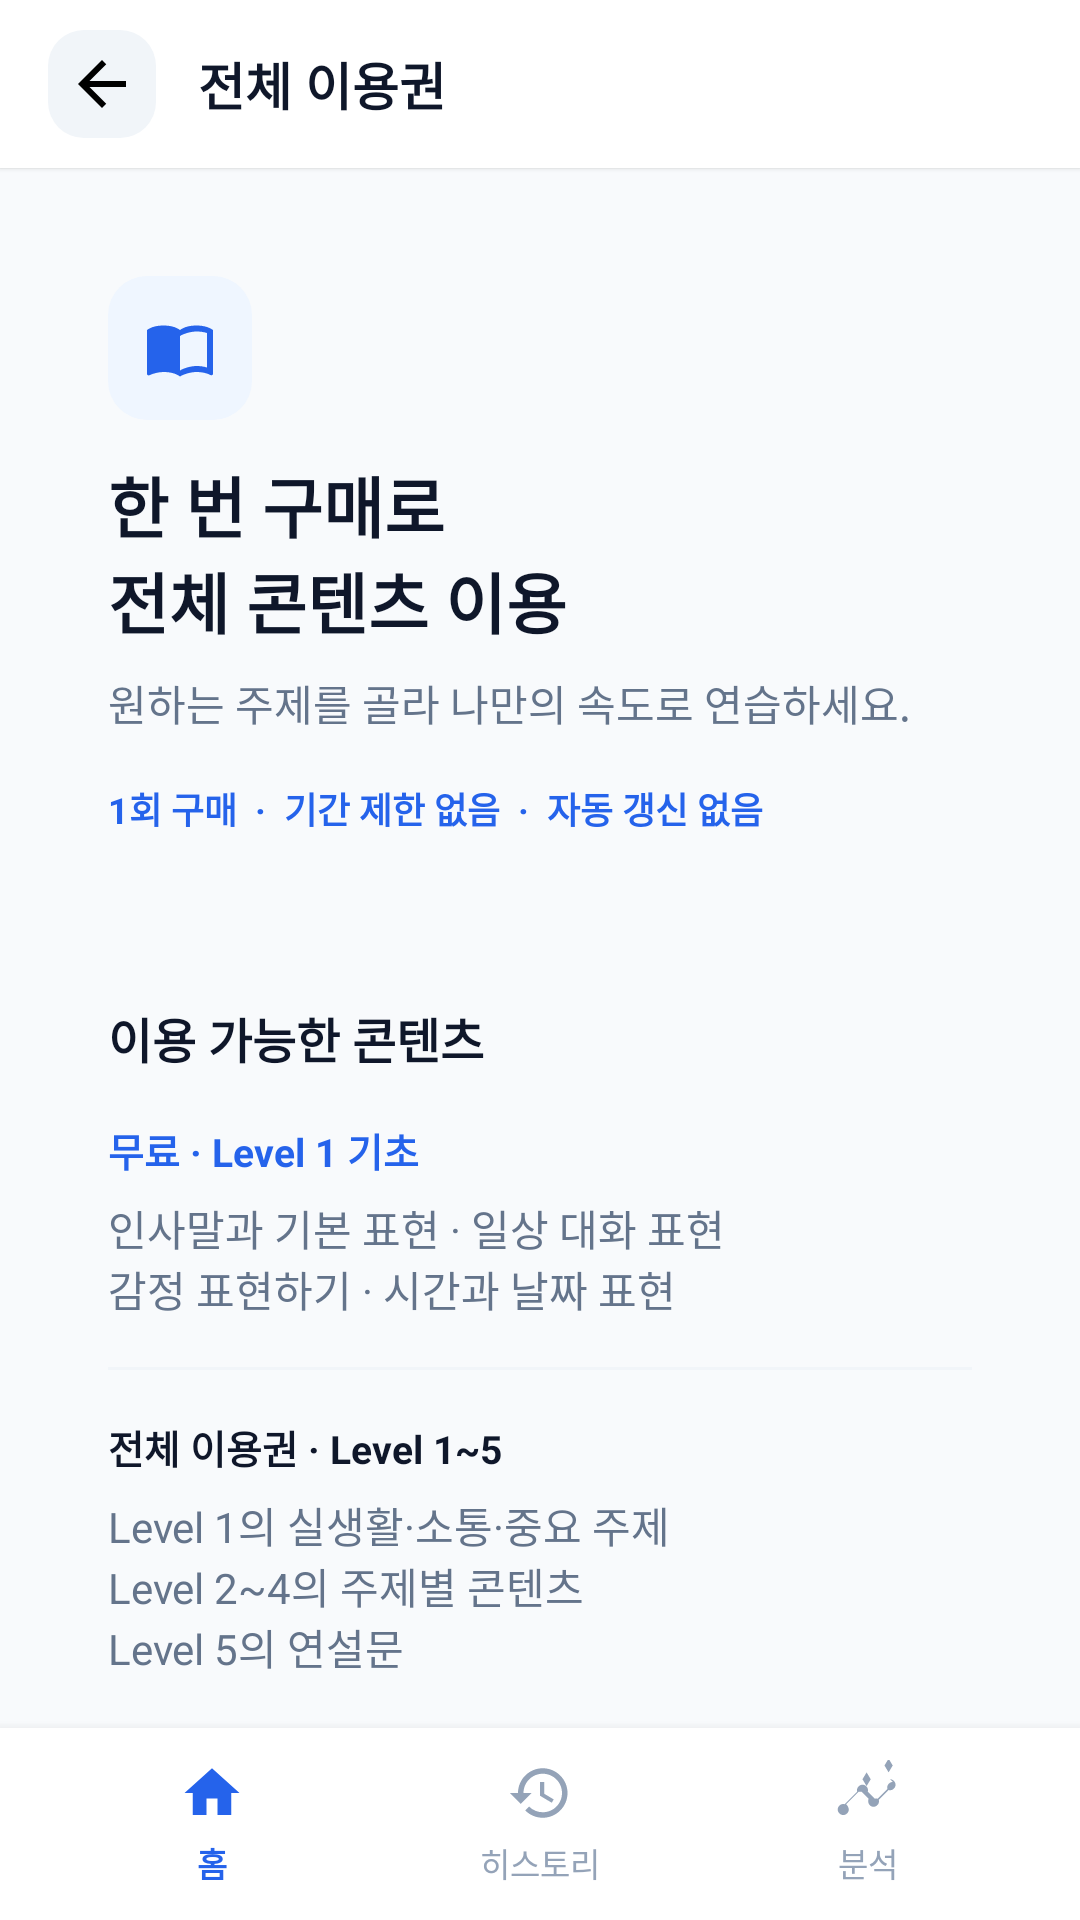

Where icons sit on this 1080px×1920px app screen, as [x1=x1, y1=y1, x2=x2, y2=y2]:
book open: [x1=147, y1=325, x2=213, y2=377]
뒤로: [x1=48, y1=30, x2=156, y2=138]
